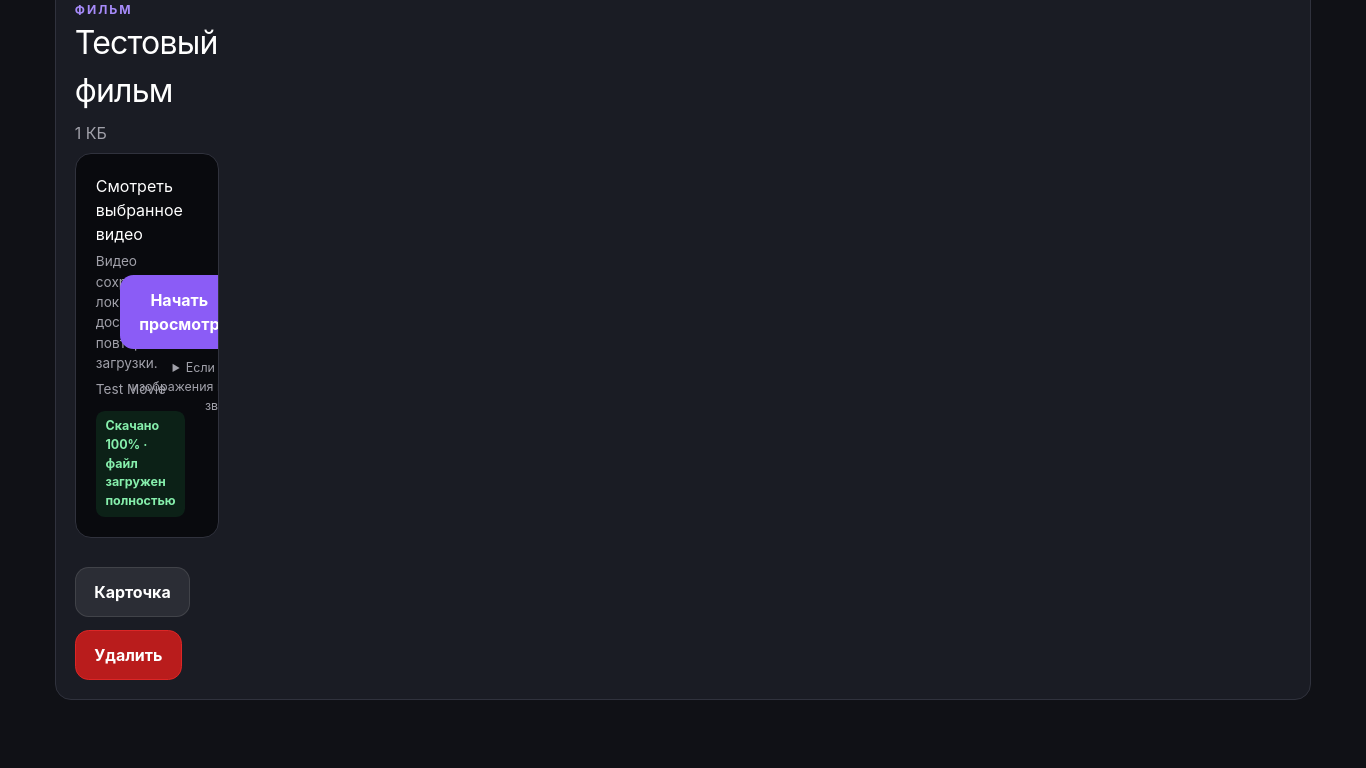
Test case: shows saved video size and deletes only after confirmation
(page scrolled)
Expected: the heading "Тестовый фильм" is shown, [75,19,219,115]
Expected: the text "1 КБ" is shown, [75,123,107,143]
Click the button "Удалить" at (128, 655), box [75,630,182,680]
(page scrolled)
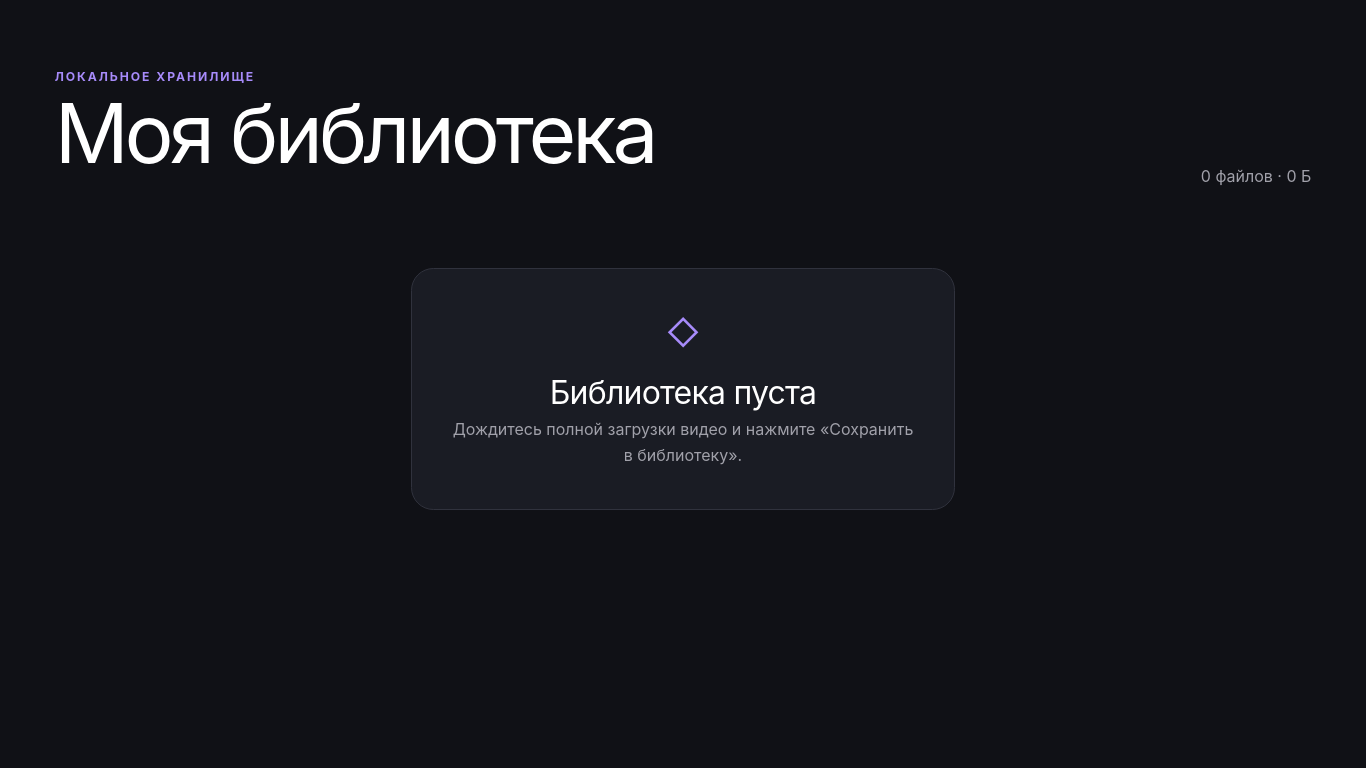
Expected: the heading "Тестовый фильм" is gone
